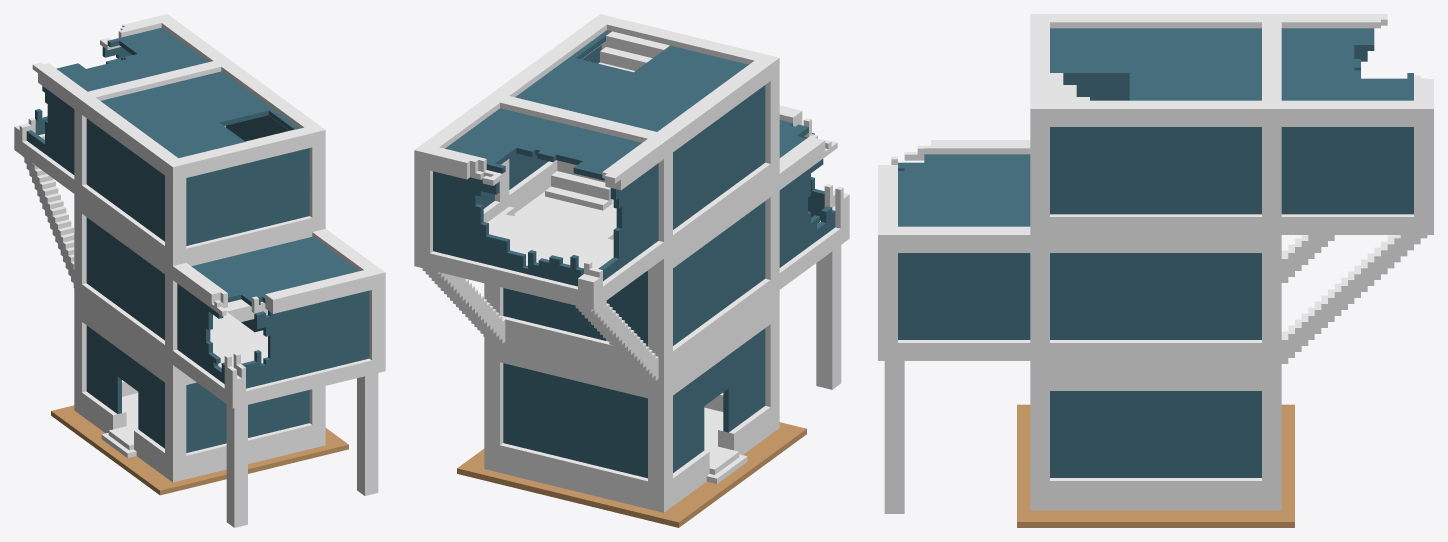
File: basic_building3.obj
3 views of the same model, side by side, from view 1: azimuth 30°, elevation 25°; view 2: azimuth 150°, elevation 25°; view 3: azimuth 270°, elevation 25° (orthographic). The views are drawn at different scales.
Bounding box in the file's own units: 42 × 68 × 84.
Materials: 1 (1 with a texture image).
